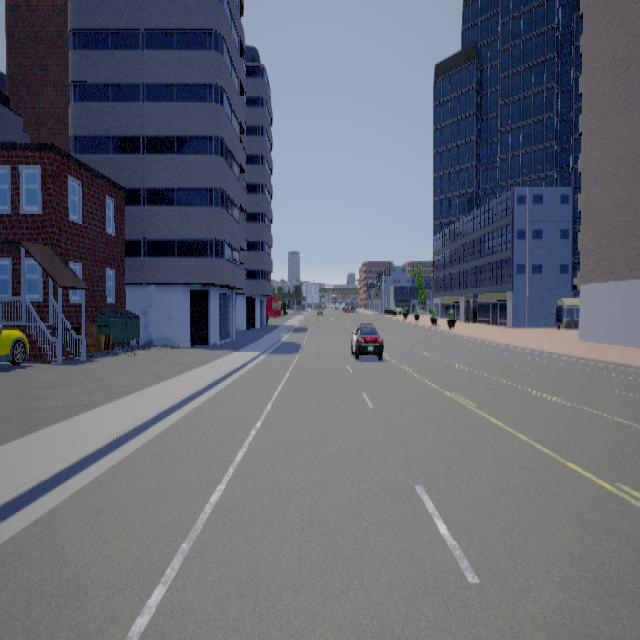vehicle: (1, 323, 30, 364), (352, 322, 385, 358)
